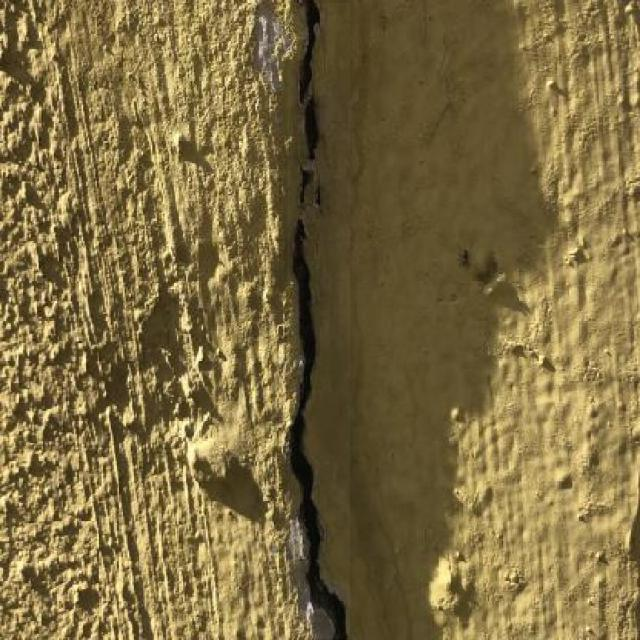vertical crack: (288, 4, 349, 638)
